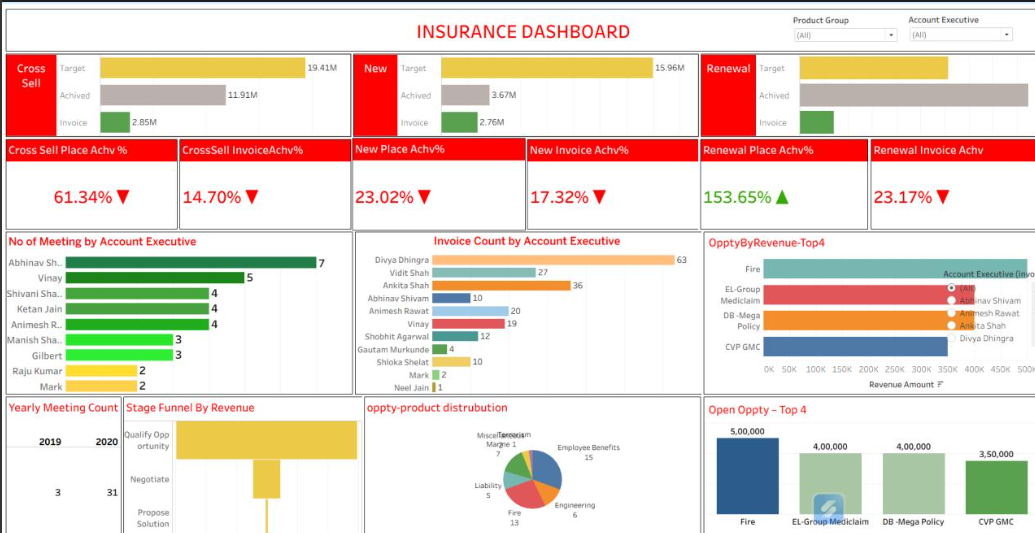

The dashboard page shown, as its layout file describes it:
{"tool":"powerbi","page":{"name":"Business Performance Dashboard","canvas":[1500,1000],"ordinal":0},"visuals":[{"type":"clusteredColumnChart","title":"Number of Invoices by Account Executive","fields":{"Category":["Tbl_invoice.Account Executive"],"Y":["Tbl_invoice.No of Invoices"]},"box":[538.3,710,461.7,265],"z":0},{"type":"card","title":"Total Invoices","fields":{"Values":["Tbl_invoice.No of Invoices"]},"box":[1030,11.7,90,45],"z":1000},{"type":"card","title":"Total Meetings","fields":{"Values":["Tbl_meetings.Yearly Meeting Count"]},"box":[1131.7,8.3,125,75],"z":2000},{"type":"clusteredBarChart","title":"No of Meetings by Account Executive","fields":{"Category":["Tbl_meetings.Account_Executive"],"Y":["Tbl_meetings.No of Meetings"]},"box":[481.7,378.3,493.3,281.7],"z":3000},{"type":"funnel","title":"Stage Funnel by revenue","fields":{"Category":["Tbl_opportunity.stage"],"Y":["Sum(Tbl_opportunity.revenue_amount)"]},"box":[38.3,706.7,408.3,268.3],"z":4000},{"type":"clusteredBarChart","title":"Opportunity by revenue-Top 4","fields":{"Category":["Tbl_opportunity.opportunity_name"],"Y":["Sum(Tbl_opportunity.revenue_amount)"]},"box":[1076.7,381.7,423.3,281.7],"z":5000},{"type":"donutChart","title":"Opportunity by product group","fields":{"Category":["Tbl_opportunity.product_group"],"Y":["Tbl_opportunity.Total Opportunities"]},"box":[1036.7,706.7,440,268.3],"z":6000},{"type":"clusteredBarChart","title":"New Business Performance","fields":{"Y":["Tbl_individualbudgets.New Target","Tbl_brokerage.New Placed","Tbl_invoice.New Invoice"]},"box":[38.3,100,481.7,281.7],"z":7000},{"type":"clusteredBarChart","title":"Cross sell Business Performance","fields":{"Y":["Tbl_individualbudgets.Cross sell Target","Tbl_brokerage.Cross sell Placed","Tbl_invoice.Cross sell Invoice"]},"box":[1093.3,106.7,406.7,243.3],"z":8000},{"type":"clusteredBarChart","title":"Renewal Business Performance","fields":{"Y":["Tbl_individualbudgets.Renewal Target","Tbl_brokerage.Renewal Placed","Tbl_invoice.Renewal Invoice"]},"box":[616.7,100,366.7,246.7],"z":9000},{"type":"pivotTable","fields":{"Rows":["Tbl_meetings.meeting_date.Variation.Date Hierarchy.Year"],"Values":["Tbl_meetings.Meeting Count"]},"box":[20,393.3,331.7,223.3],"z":10000},{"type":"textbox","box":[100,8.3,916.7,70],"z":11000},{"type":"slicer","fields":{"Values":["Tbl_individualbudgets.Account_Executive"]},"box":[1276.7,5,200,76.7],"z":11001}]}

Visuals, with their boxes on the page's 1500x1000 design canvas (x1, y1, x2, y2). These are canvas units, not pixel positions in the 1035x533 screenshot, which may show the page scaled, cropped or inside an application window:
"Number of Invoices by Account Executive" clusteredColumnChart: detection(538, 710, 1000, 975)
"Total Invoices" card: detection(1030, 12, 1120, 57)
"Total Meetings" card: detection(1132, 8, 1257, 83)
"No of Meetings by Account Executive" clusteredBarChart: detection(482, 378, 975, 660)
"Stage Funnel by revenue" funnel: detection(38, 707, 447, 975)
"Opportunity by revenue-Top 4" clusteredBarChart: detection(1077, 382, 1500, 663)
"Opportunity by product group" donutChart: detection(1037, 707, 1477, 975)
"New Business Performance" clusteredBarChart: detection(38, 100, 520, 382)
"Cross sell Business Performance" clusteredBarChart: detection(1093, 107, 1500, 350)
"Renewal Business Performance" clusteredBarChart: detection(617, 100, 983, 347)
pivotTable - Tbl_meetings.meeting_date.Variation.Date Hierarchy.Year x Tbl_meetings.Meeting Count: detection(20, 393, 352, 617)
textbox: detection(100, 8, 1017, 78)
slicer - Tbl_individualbudgets.Account_Executive: detection(1277, 5, 1477, 82)
